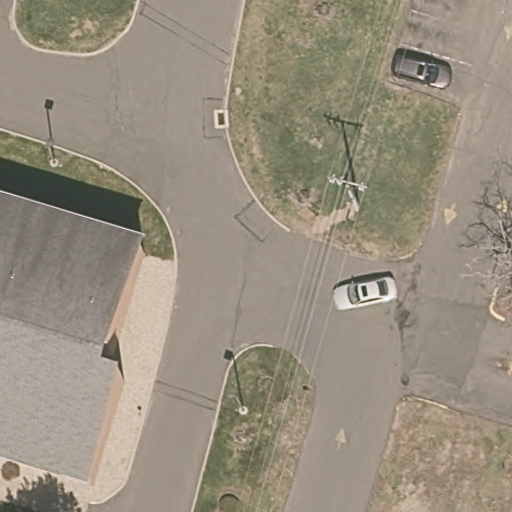DT: (326, 175, 369, 200)
